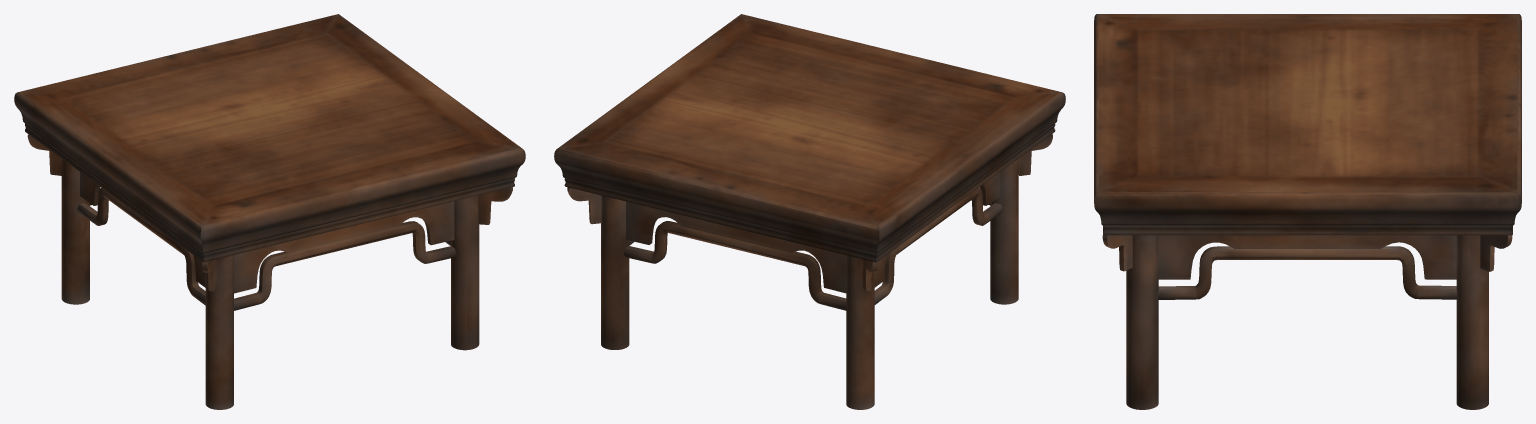
The model's file is table_tea_cn.glb.
3 renders of one model, left to right at view 1: azimuth 30°, elevation 25°; view 2: azimuth 150°, elevation 25°; view 3: azimuth 270°, elevation 25°, orthographic. The views are drawn at different scales.
Parts seen in each view (by area): view 1: mesh; view 2: mesh; view 3: mesh.
Boxes of the visible parts, left/top/right/bottom form: mesh: left=14, top=14, right=525, bottom=409; mesh: left=554, top=14, right=1065, bottom=409; mesh: left=1094, top=14, right=1521, bottom=409.
Size of the model in its own units: 0.8413 by 0.4987 by 0.8357.
1 material, 1 textured.
